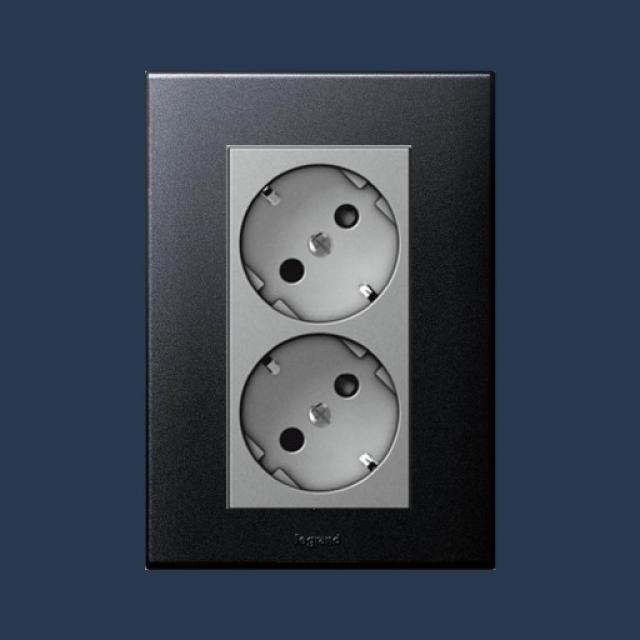typeb: (105, 32, 554, 609)
